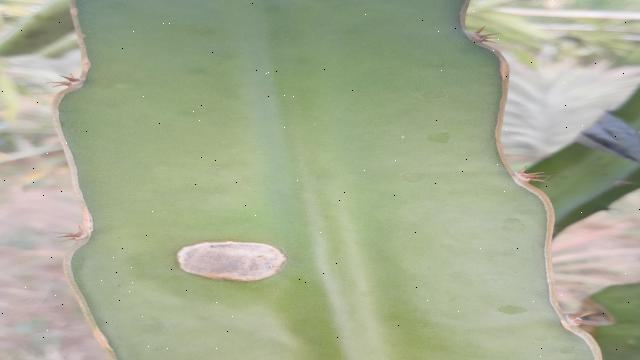stemcanker: (174, 239, 287, 283)
